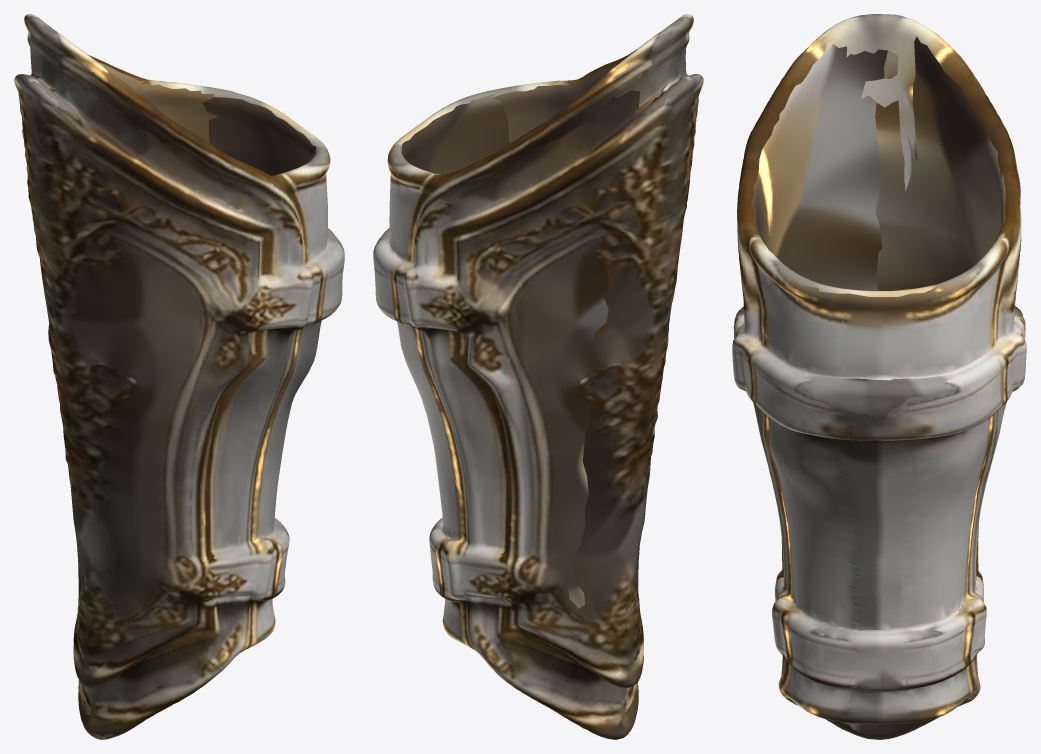
File: lumen_greave.glb
The picture shows the model from 3 angles, left to right: view 1: azimuth 30°, elevation 25°; view 2: azimuth 150°, elevation 25°; view 3: azimuth 270°, elevation 25°; orthographic projection. The views are drawn at different scales.
Parts seen in each view (by area): view 1: geometry_0; view 2: geometry_0; view 3: geometry_0.
Part boxes in pixels (x1,y1,x2,y2): geometry_0: [14, 14, 344, 739]; geometry_0: [373, 14, 703, 739]; geometry_0: [732, 14, 1026, 739].
Bounding box in the file's own units: 0.1694 × 0.4 × 0.1524.
1 material, 1 textured.
